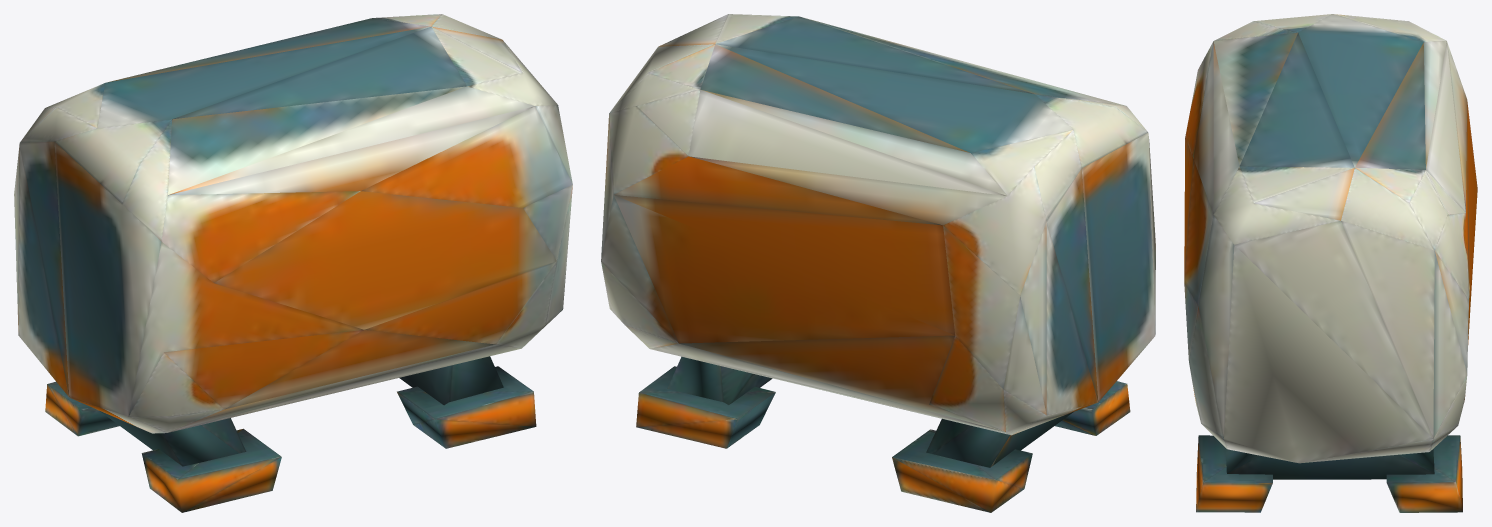
Rendered from cargo_pod-lod0.eabd8b11177f.glb.
3 views of the same model, side by side, from view 1: azimuth 30°, elevation 25°; view 2: azimuth 150°, elevation 25°; view 3: azimuth 270°, elevation 25° (orthographic). The views are drawn at different scales.
Parts seen in each view (by area): view 1: geometry_0; view 2: geometry_0; view 3: geometry_0.
Boxes of the visible parts, x1=… form: geometry_0: x1=14, y1=14, x2=572, y2=512; geometry_0: x1=601, y1=14, x2=1155, y2=512; geometry_0: x1=1184, y1=14, x2=1477, y2=512.
Bounding box in the file's own units: 0.9985 × 0.7574 × 0.6027.
1 material, 1 textured.
